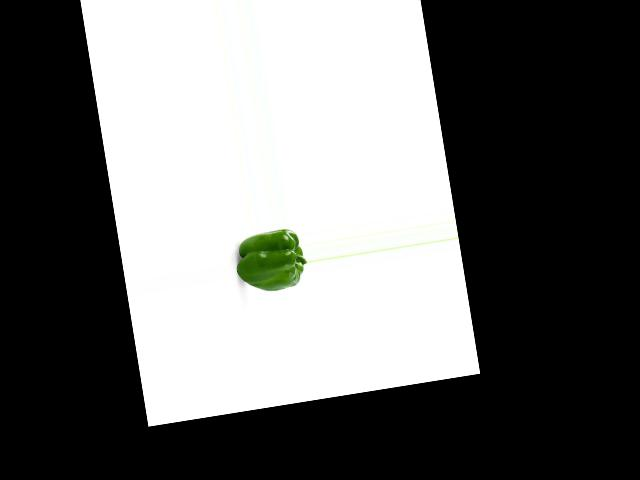bell_pepper: (233, 225, 309, 297)
